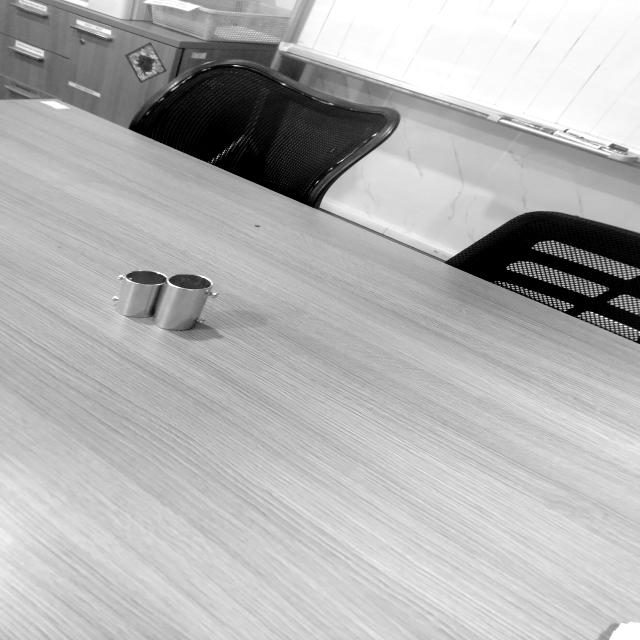Co_Lon: (148, 263, 224, 344)
Co_Nho: (109, 263, 168, 324)
